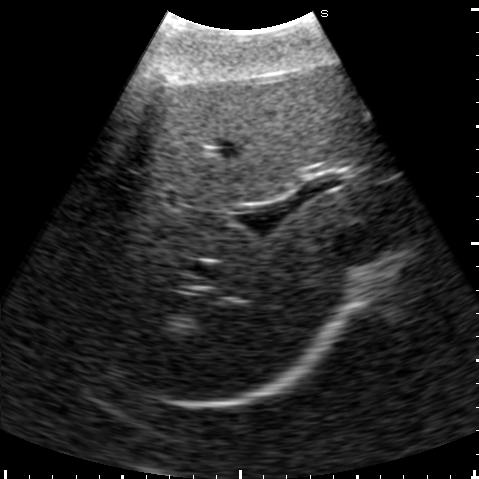IVC: (336, 225, 383, 263)
S1: (297, 183, 410, 235)
S3: (341, 93, 399, 177)
S4: (161, 67, 347, 210)
